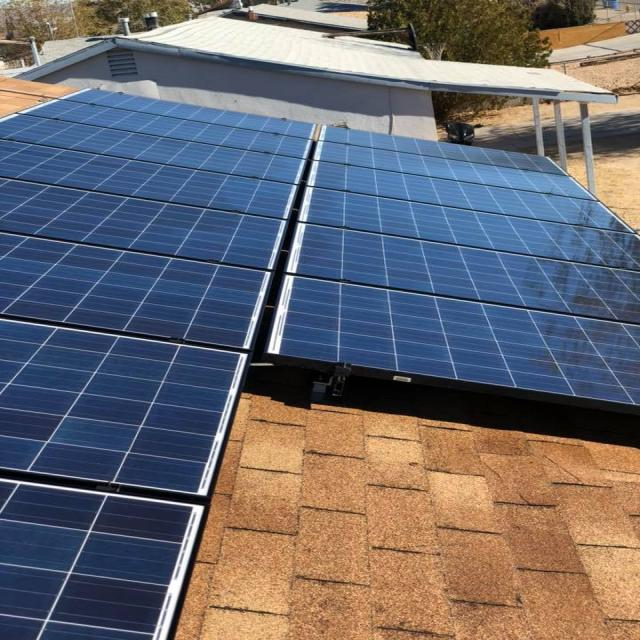clean-solar-panel: (0, 90, 638, 640)
